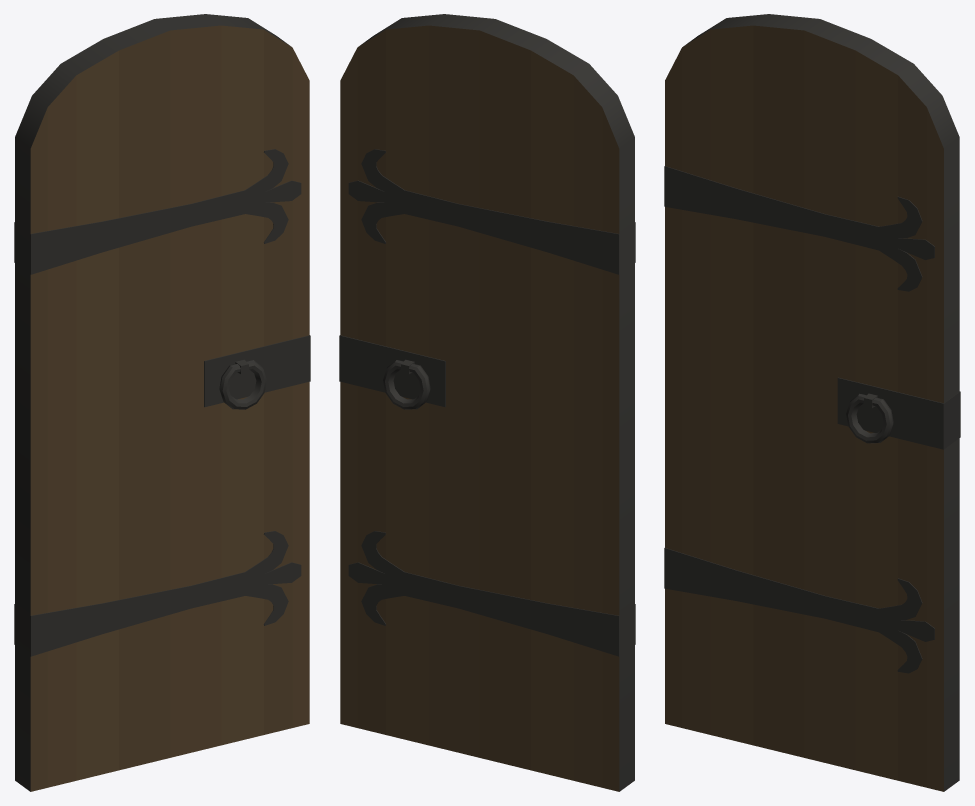
Rendered from Guards_room_door.fbx.
3 views of the same model, side by side, from view 1: azimuth 30°, elevation 25°; view 2: azimuth 150°, elevation 25°; view 3: azimuth 330°, elevation 25° (orthographic).
Visible parts, largest first — view 1: door_guard_room; view 2: door_guard_room; view 3: door_guard_room.
Boxes of the visible parts, left/top/right/bottom form: door_guard_room: left=14, top=14, right=310, bottom=791; door_guard_room: left=339, top=14, right=635, bottom=791; door_guard_room: left=664, top=14, right=960, bottom=791.
Bounding box in the file's own units: 89.53 × 223 × 16.9.
